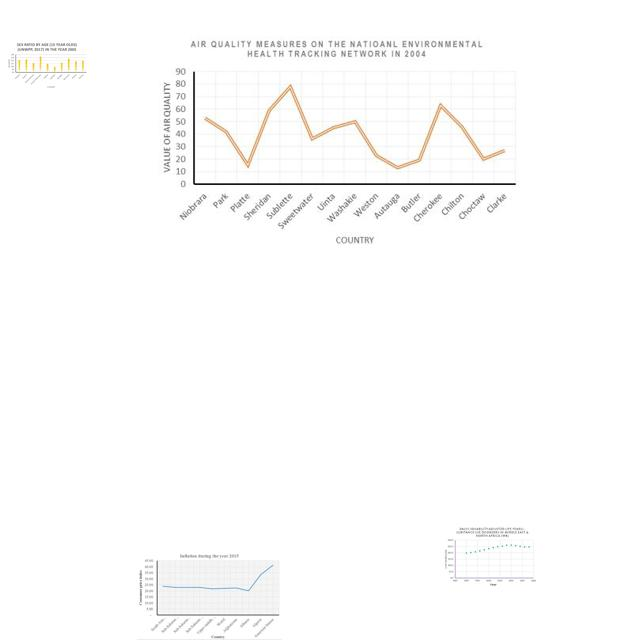Graph: (152, 36, 522, 253), (137, 552, 282, 640), (443, 526, 537, 587), (6, 41, 88, 89)
